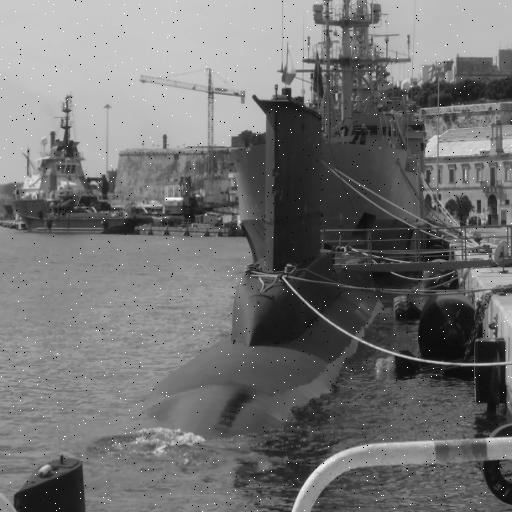submarine: (99, 73, 392, 449)
